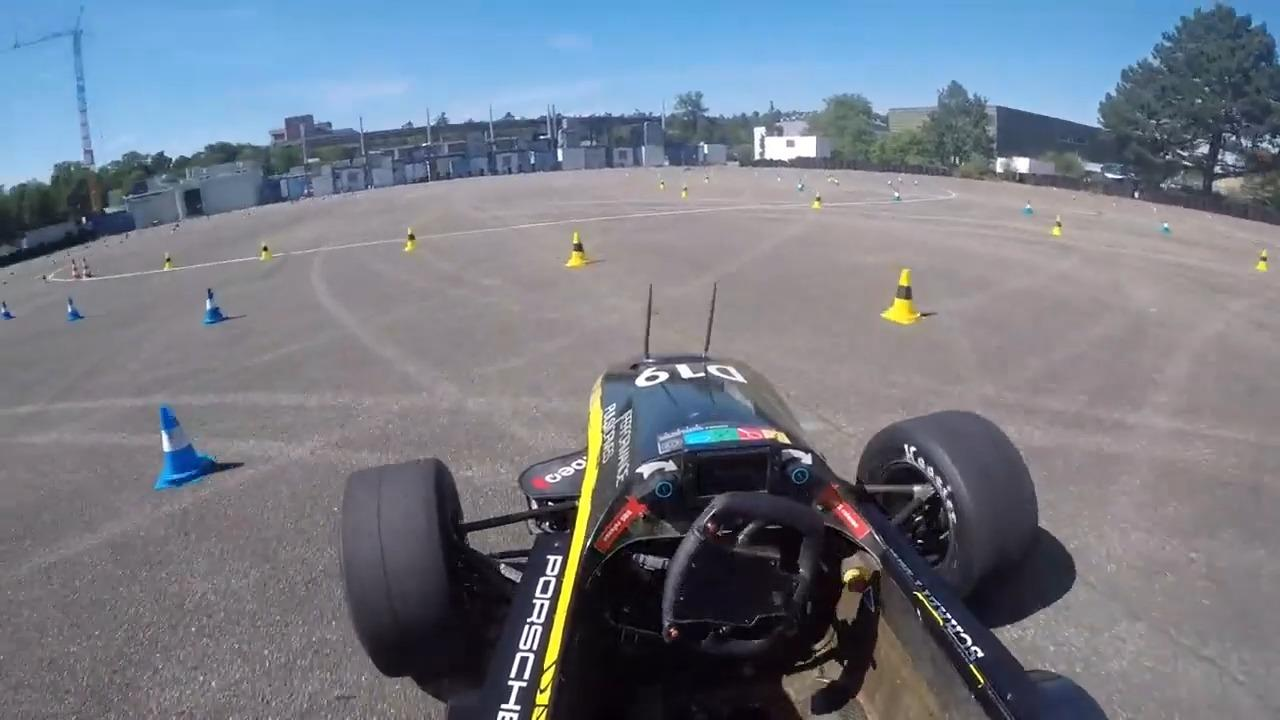blue_cone: (154, 403, 216, 490), (203, 288, 228, 324), (66, 296, 84, 322)
yellow_cone: (879, 267, 926, 326), (566, 230, 594, 269), (405, 227, 420, 252), (259, 240, 274, 260)
